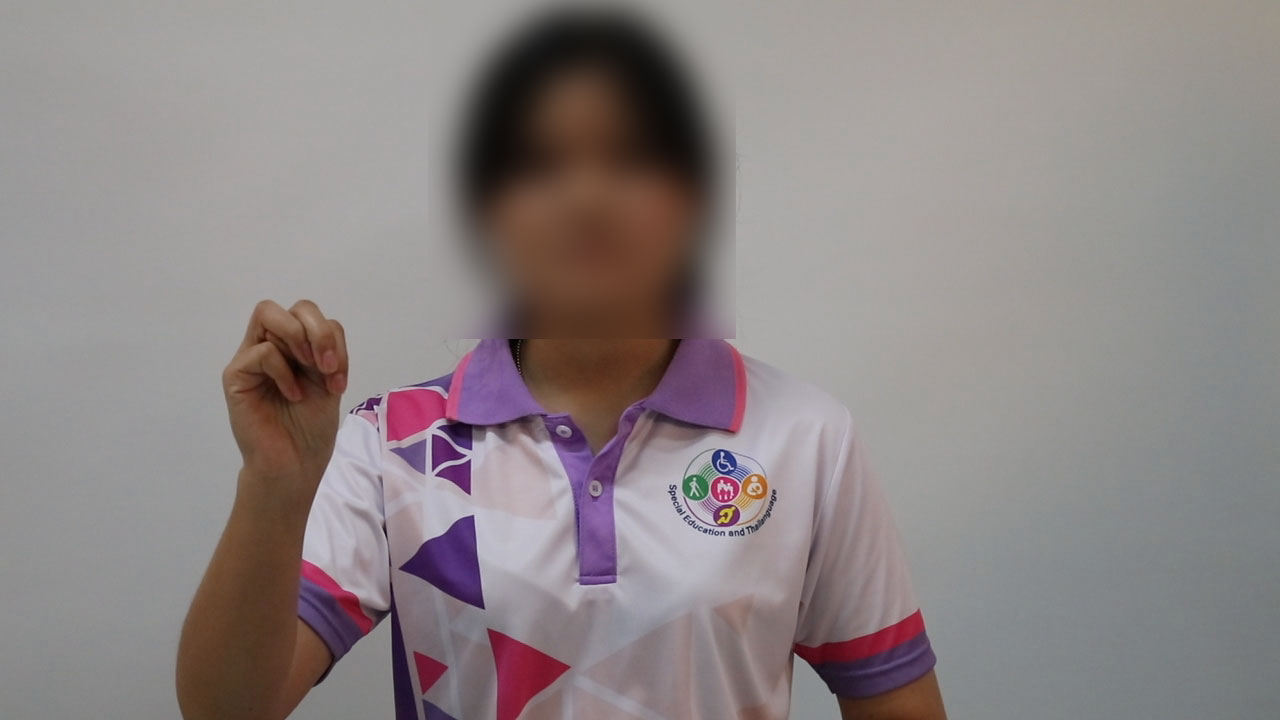mor: (207, 273, 376, 513)
